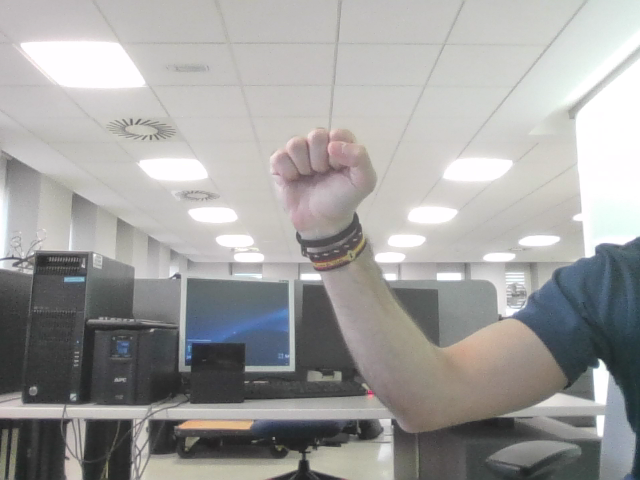Puño: (284, 138, 357, 207)
